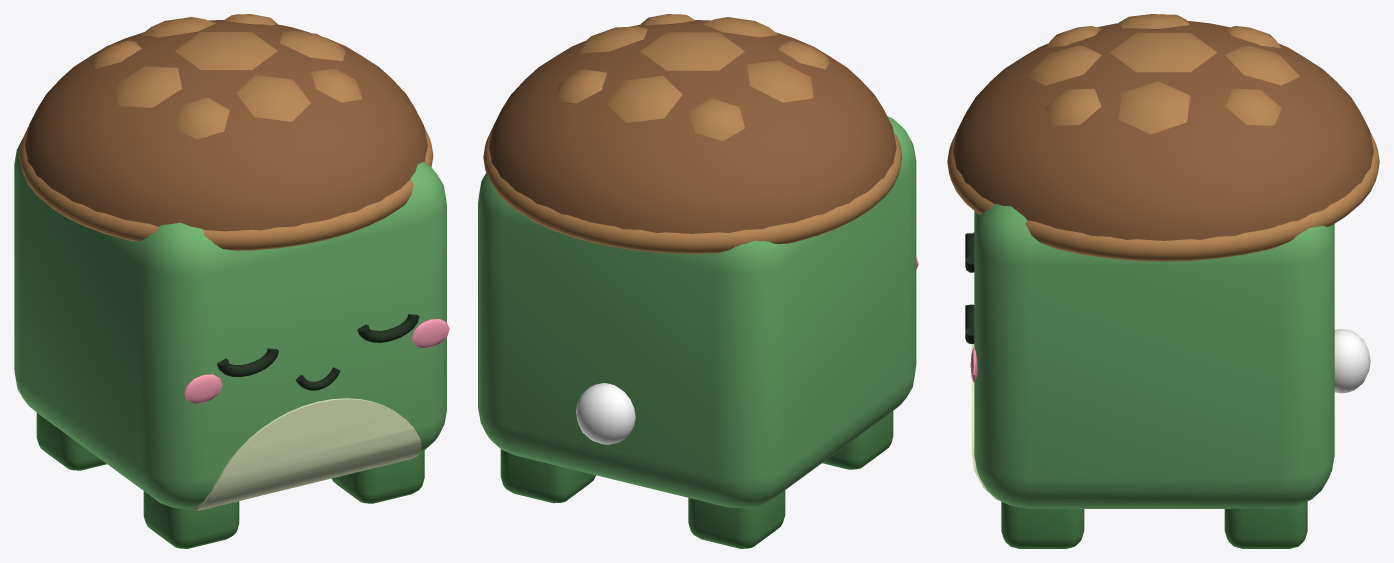
Rendered from Turtle.glb.
The picture shows the model from 3 angles, left to right: view 1: azimuth 30°, elevation 25°; view 2: azimuth 150°, elevation 25°; view 3: azimuth 270°, elevation 25°; orthographic projection. The views are drawn at different scales.
Parts seen in each view (by area): view 1: Turtle; view 2: Turtle; view 3: Turtle.
Boxes of the visible parts, left/top/right/bottom form: Turtle: left=14, top=14, right=449, bottom=548; Turtle: left=478, top=14, right=918, bottom=548; Turtle: left=947, top=14, right=1379, bottom=548.
Bounding box in the file's own units: 2.4 × 2.73 × 2.4.
Materials: 1 (1 with a texture image).
